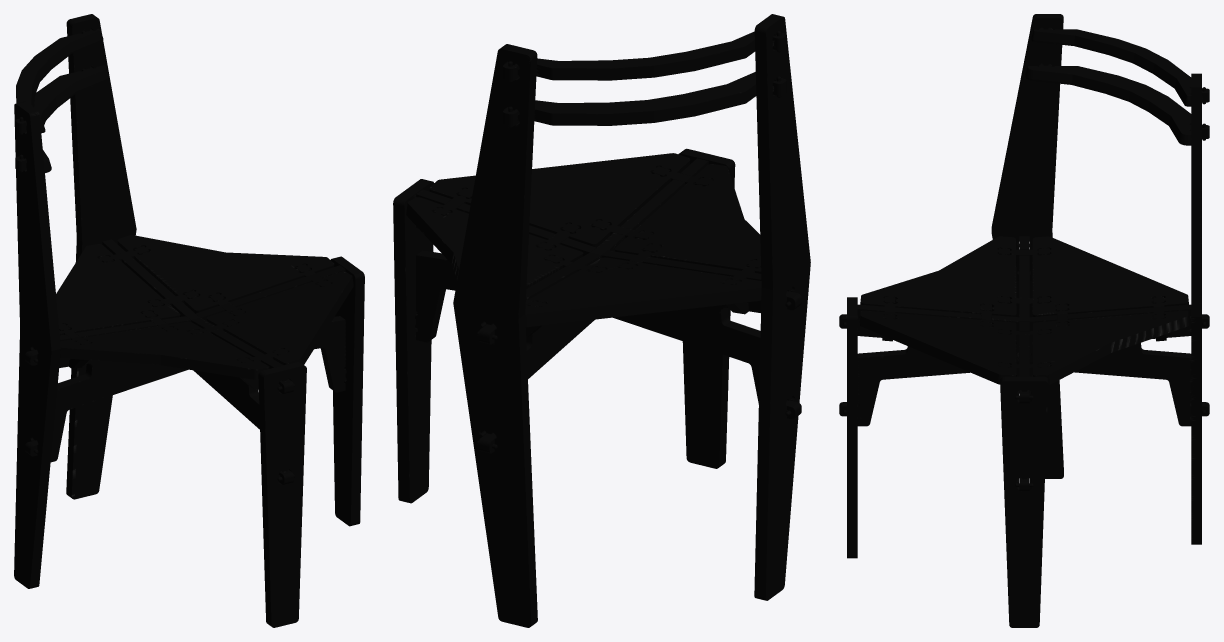
3 renders of one model, left to right at view 1: azimuth 30°, elevation 25°; view 2: azimuth 150°, elevation 25°; view 3: azimuth 270°, elevation 25°, orthographic. The views are drawn at different scales.
Parts seen in each view (by area): view 1: node_id3; view 2: node_id3; view 3: node_id3.
Part boxes in pixels (x1,y1,x2,y2): node_id3: (14,14,364,627); node_id3: (393,14,810,627); node_id3: (839,14,1209,627).
Bounding box in the file's own units: 0.3704 × 0.512 × 0.3704.
Materials: 1 (1 with a texture image).
